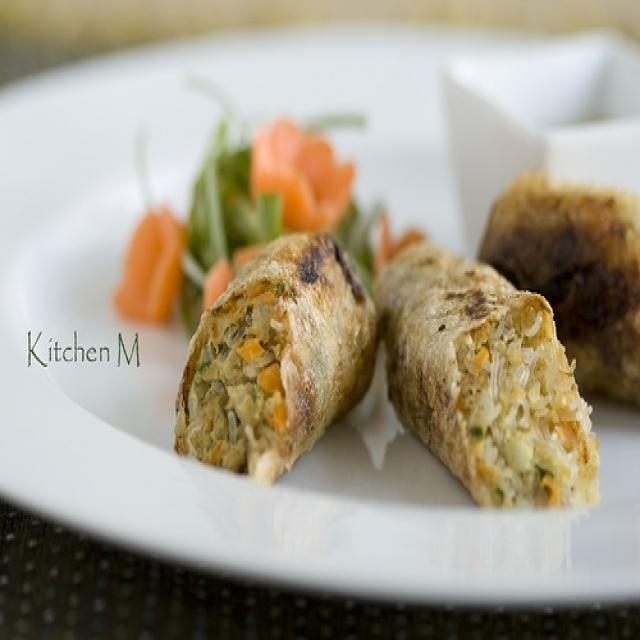炸货点心: (168, 217, 581, 509)
